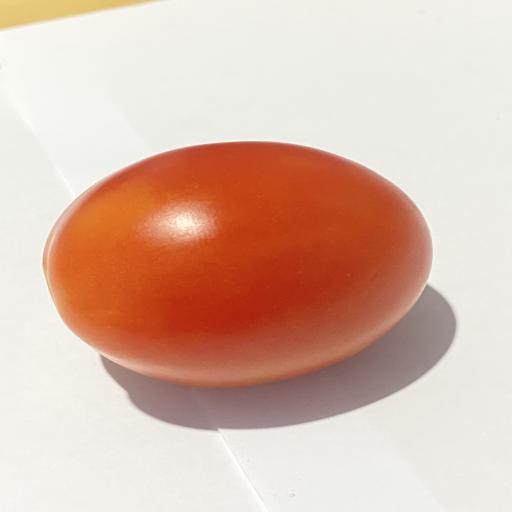ripe: (44, 142, 432, 386)
